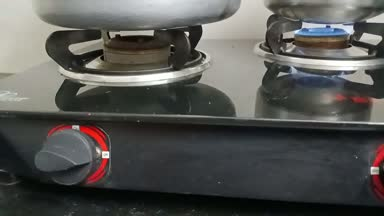flame_gas_off: (38, 26, 167, 194)
flame_gas_on: (270, 13, 368, 67)
